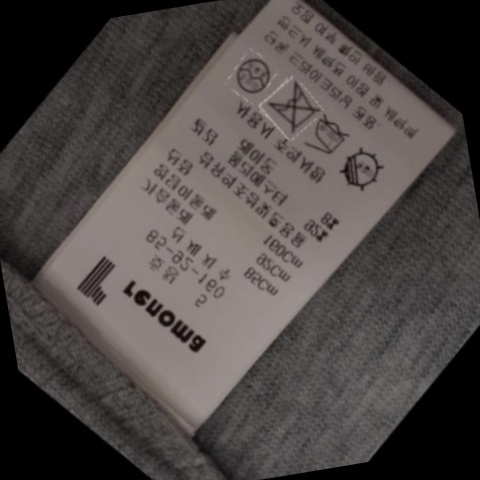DN_wash: (262, 82, 320, 133)
dry_clean_petrol_only: (228, 52, 274, 97)
iron_low: (302, 114, 354, 161)
line_dry_in_shade: (330, 147, 386, 195)
